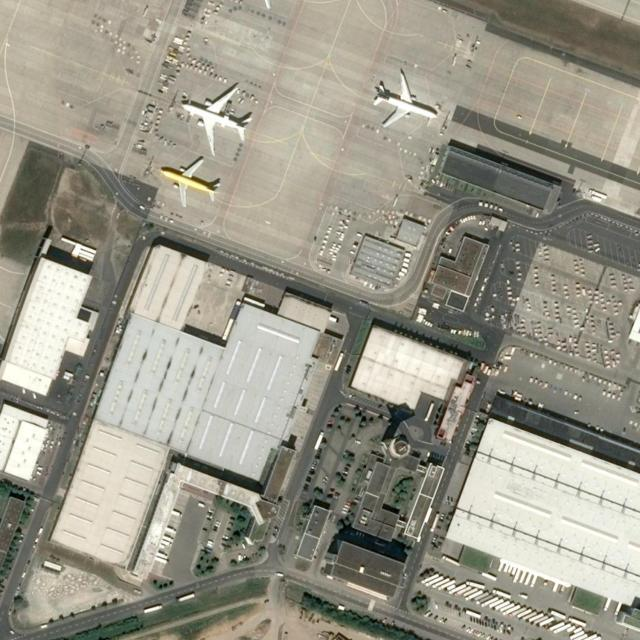Aircraft: (179, 85, 255, 151), (369, 71, 443, 133), (154, 160, 224, 208)
